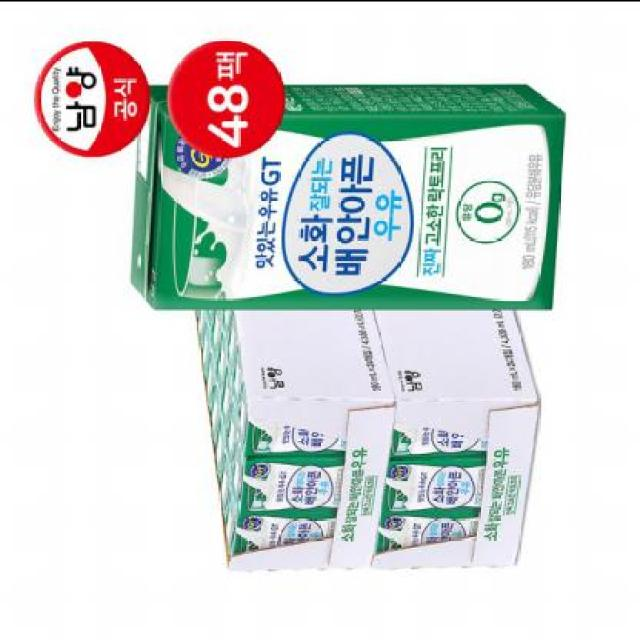tetra: (109, 51, 585, 338)
